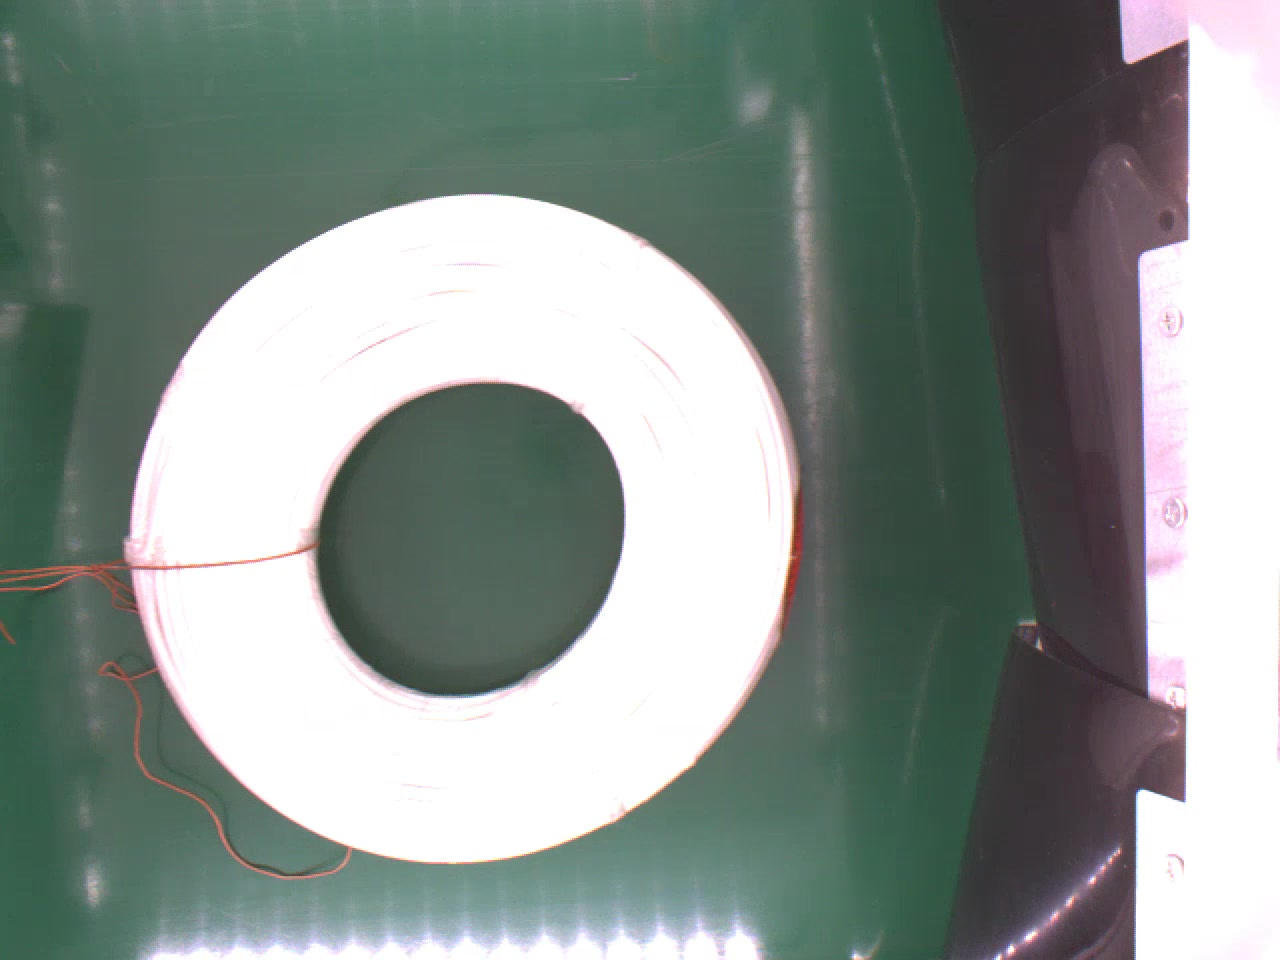white: (125, 186, 804, 867)
